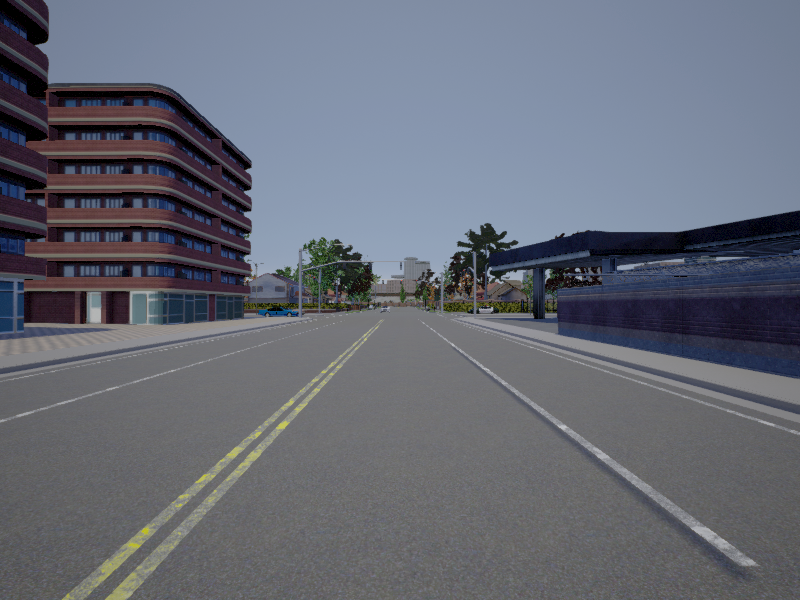benign: (257, 303, 300, 318), (467, 303, 499, 316), (380, 304, 391, 314)
